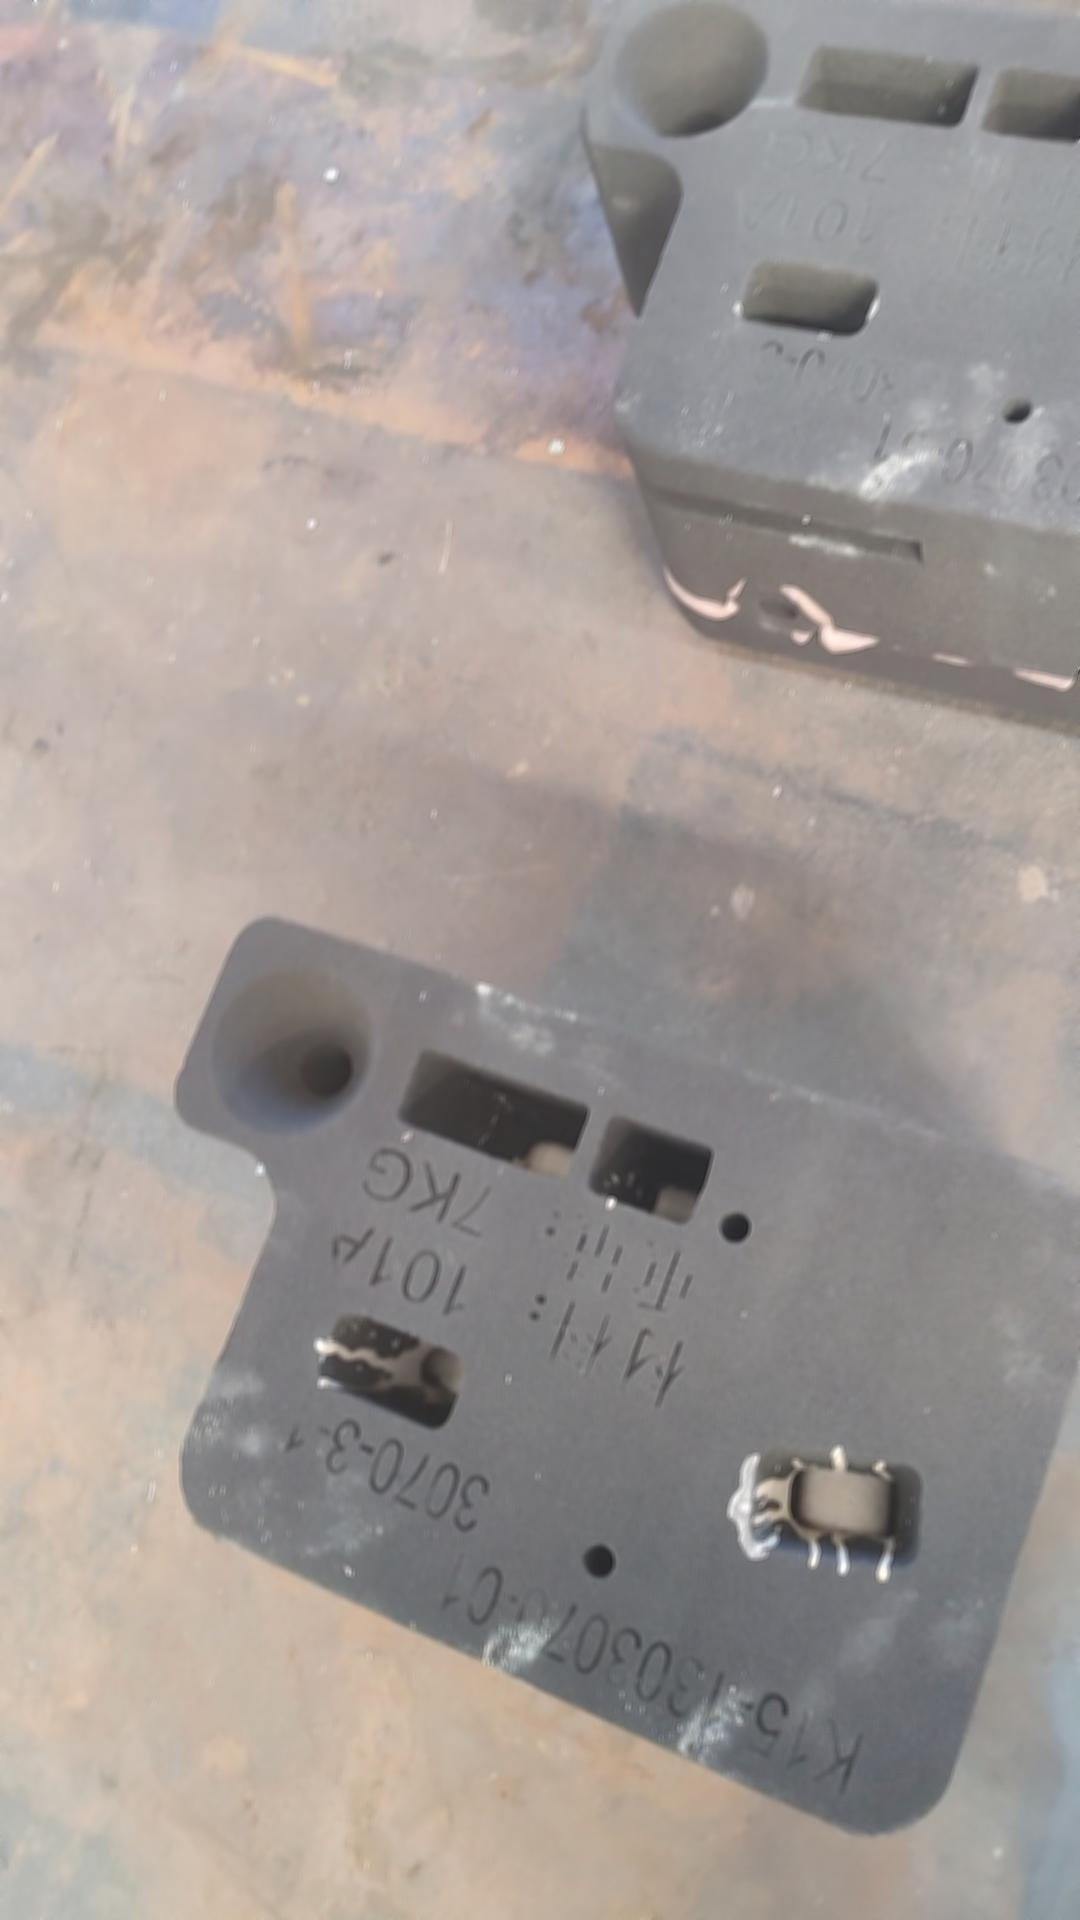pouring hole: (212, 971, 378, 1137), (612, 5, 769, 138)
